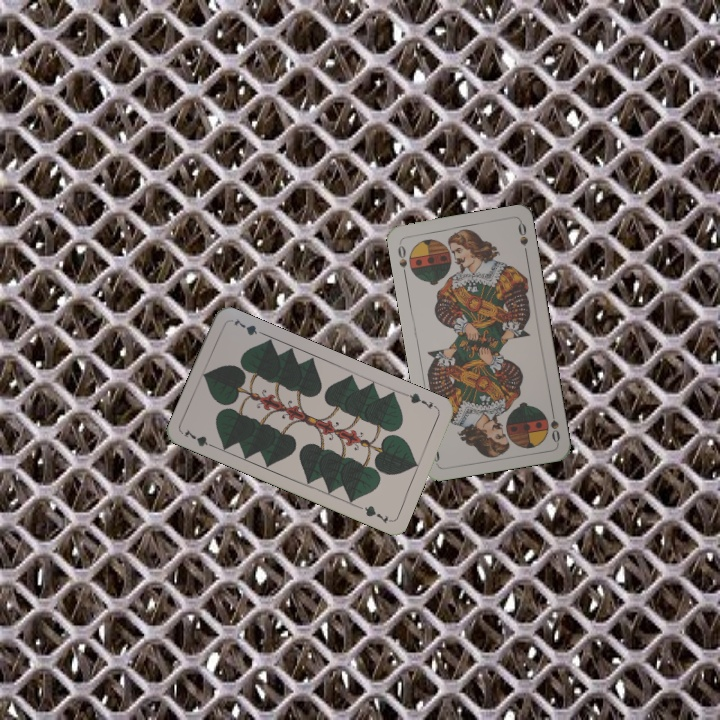G7: (180, 425, 219, 451), (401, 389, 440, 412)
SO: (546, 405, 563, 445), (394, 239, 410, 279)
